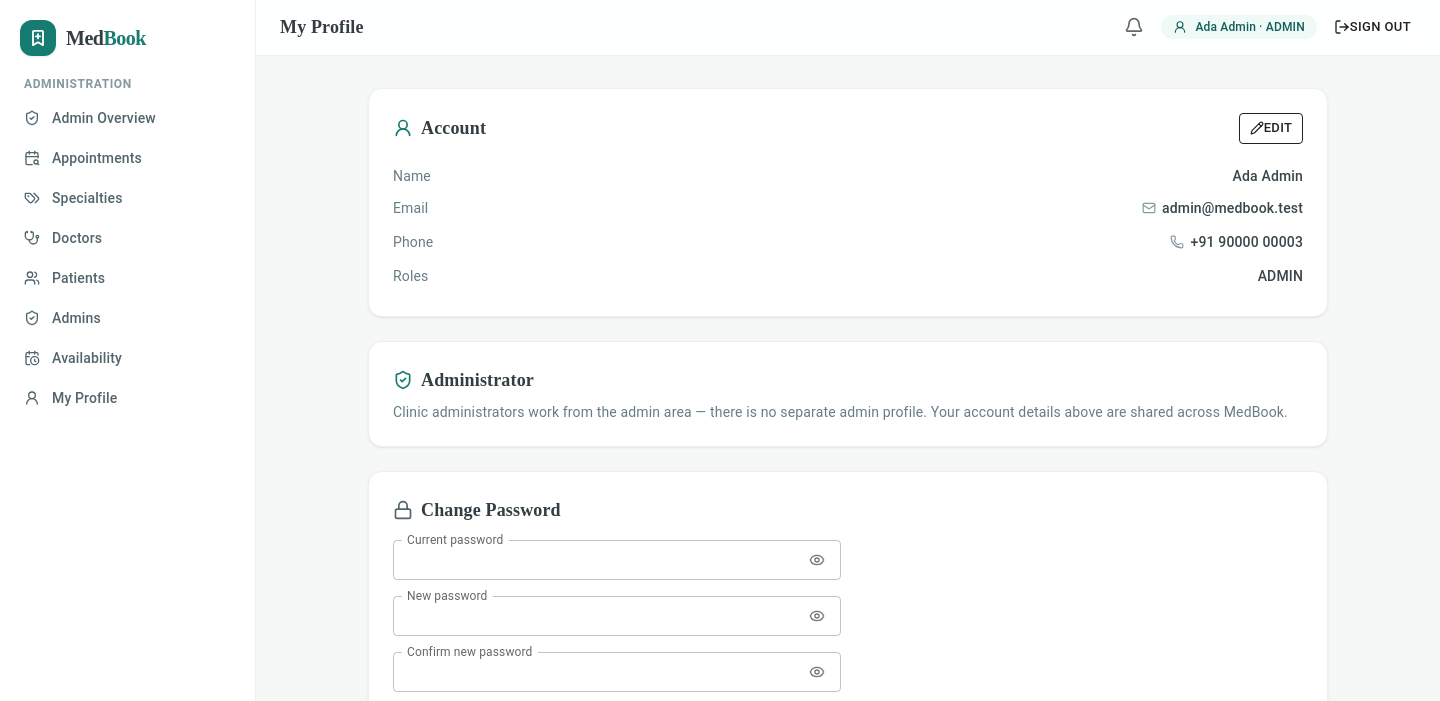
Scenario: ProfilePage — account editing › surfaces a backend error inside the account form
Click the button "Edit" at coordinates (1271, 128), box [1239, 113, 1303, 144]
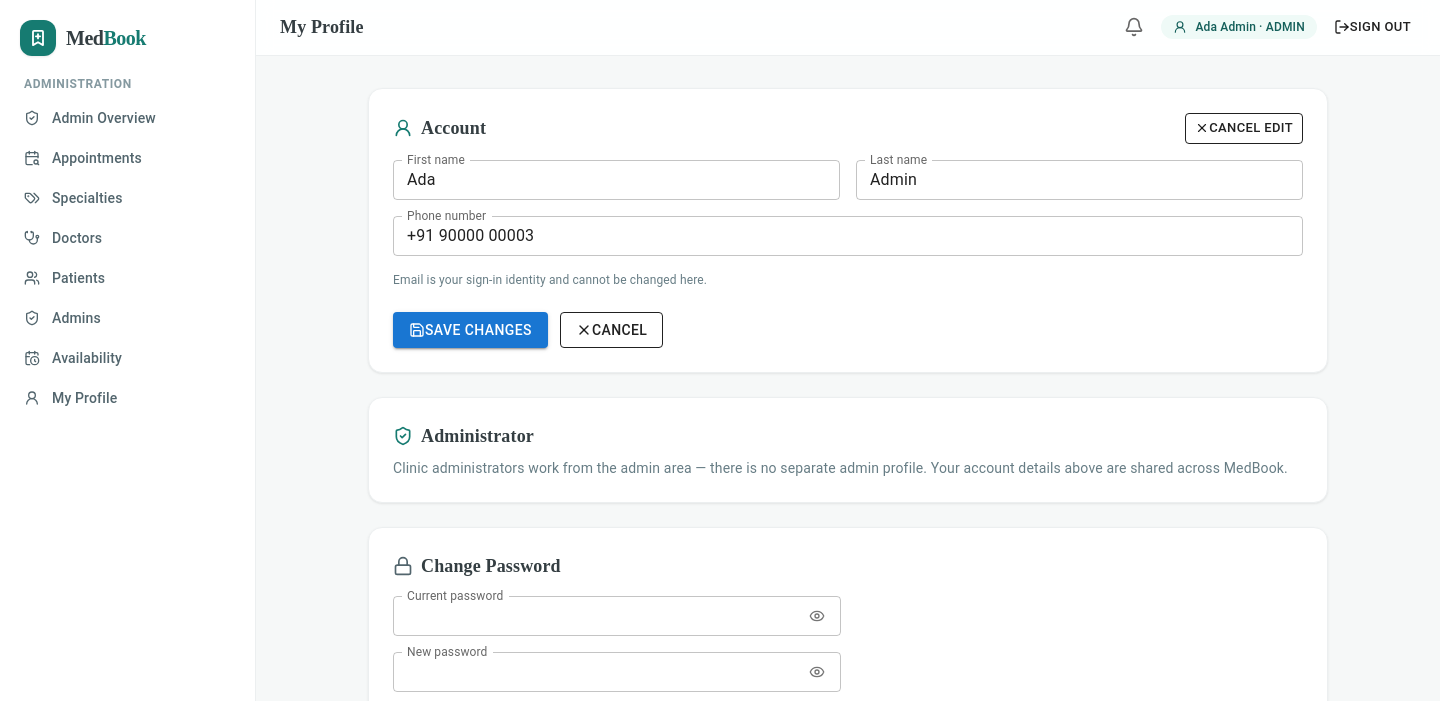
Click the button "Save Changes" at coordinates (470, 330), box [393, 312, 548, 348]
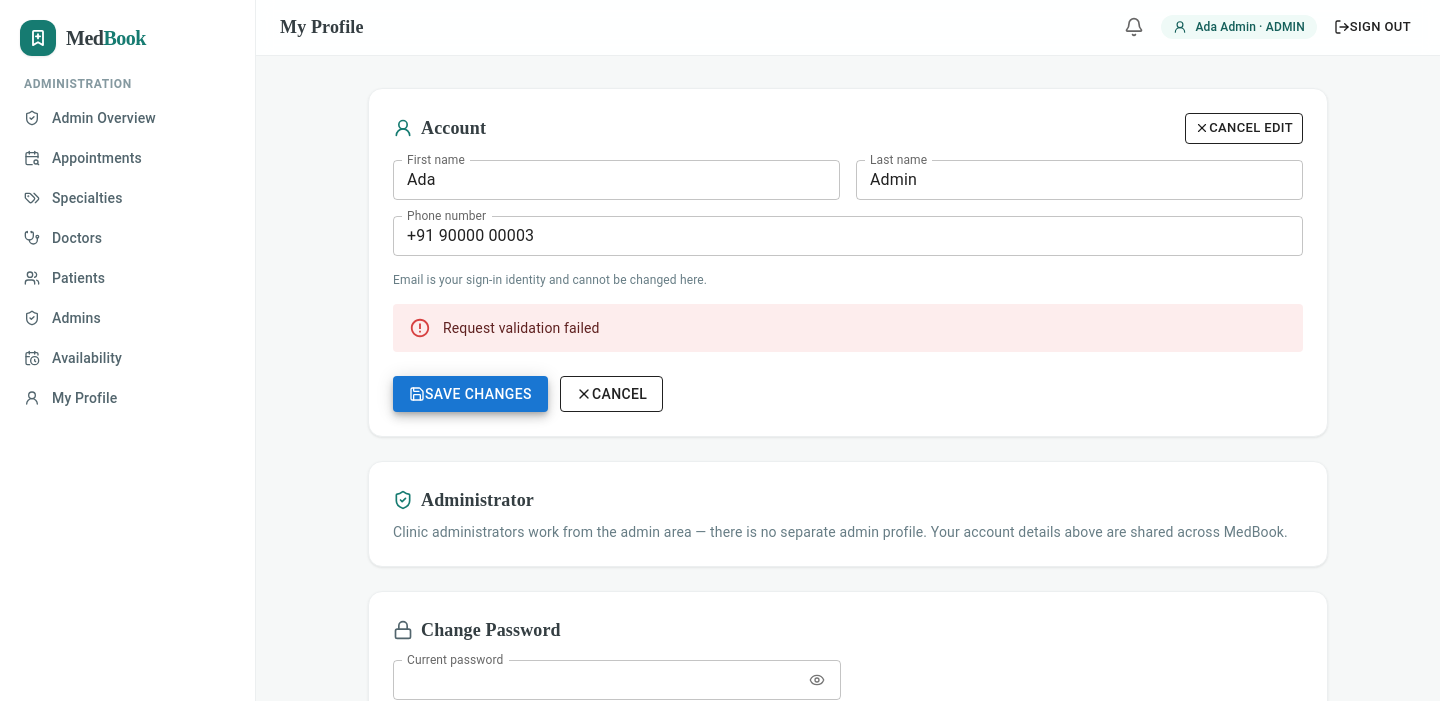
Result: the field labelled "First name" is shown at [393, 160, 840, 200]
Result: the text "Request validation failed" is shown at [443, 320, 600, 336]
